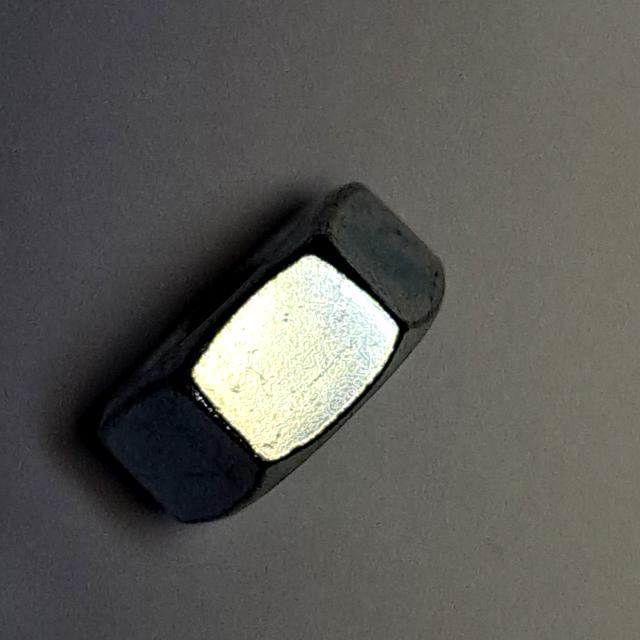Side_Excellent: (66, 158, 464, 542)
